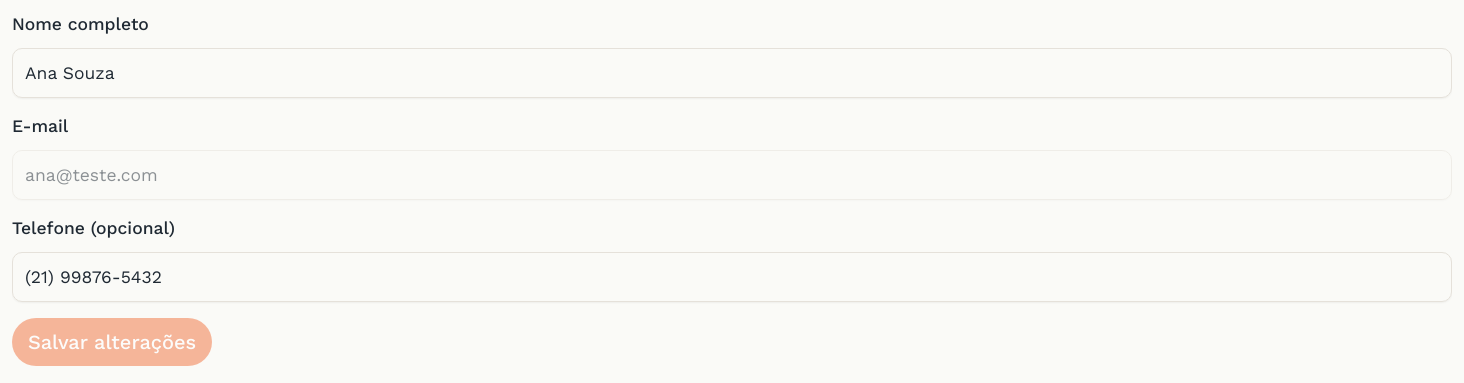
Test: ProfileForm › só libera salvar depois de mudar alguma coisa
Check: the button "Salvar alterações" is disabled, box [12, 318, 212, 366]
Type " Lima" into the field labelled "Nome completo" at (732, 73), box [12, 48, 1452, 98]
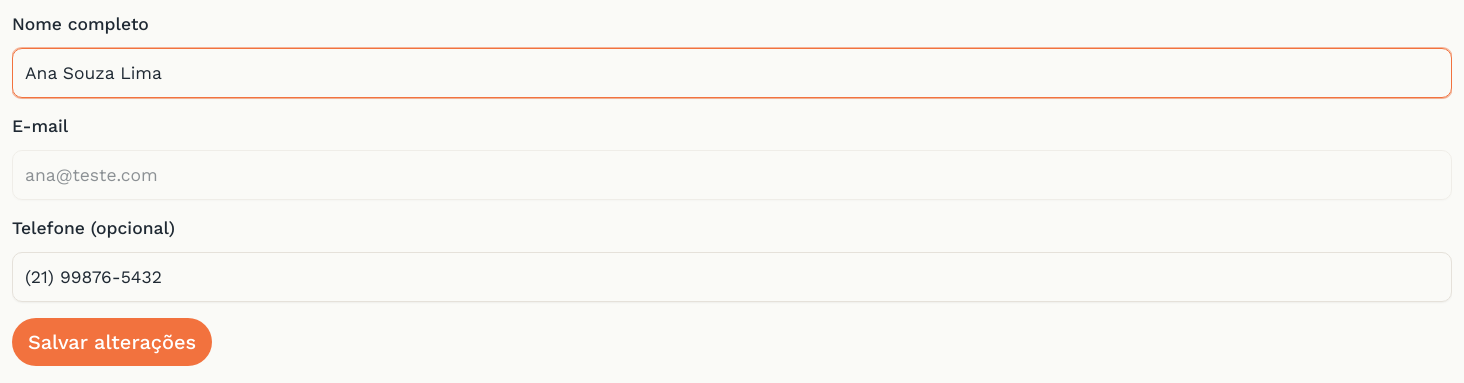
Check: the button "Salvar alterações" is enabled, box [12, 318, 212, 366]
